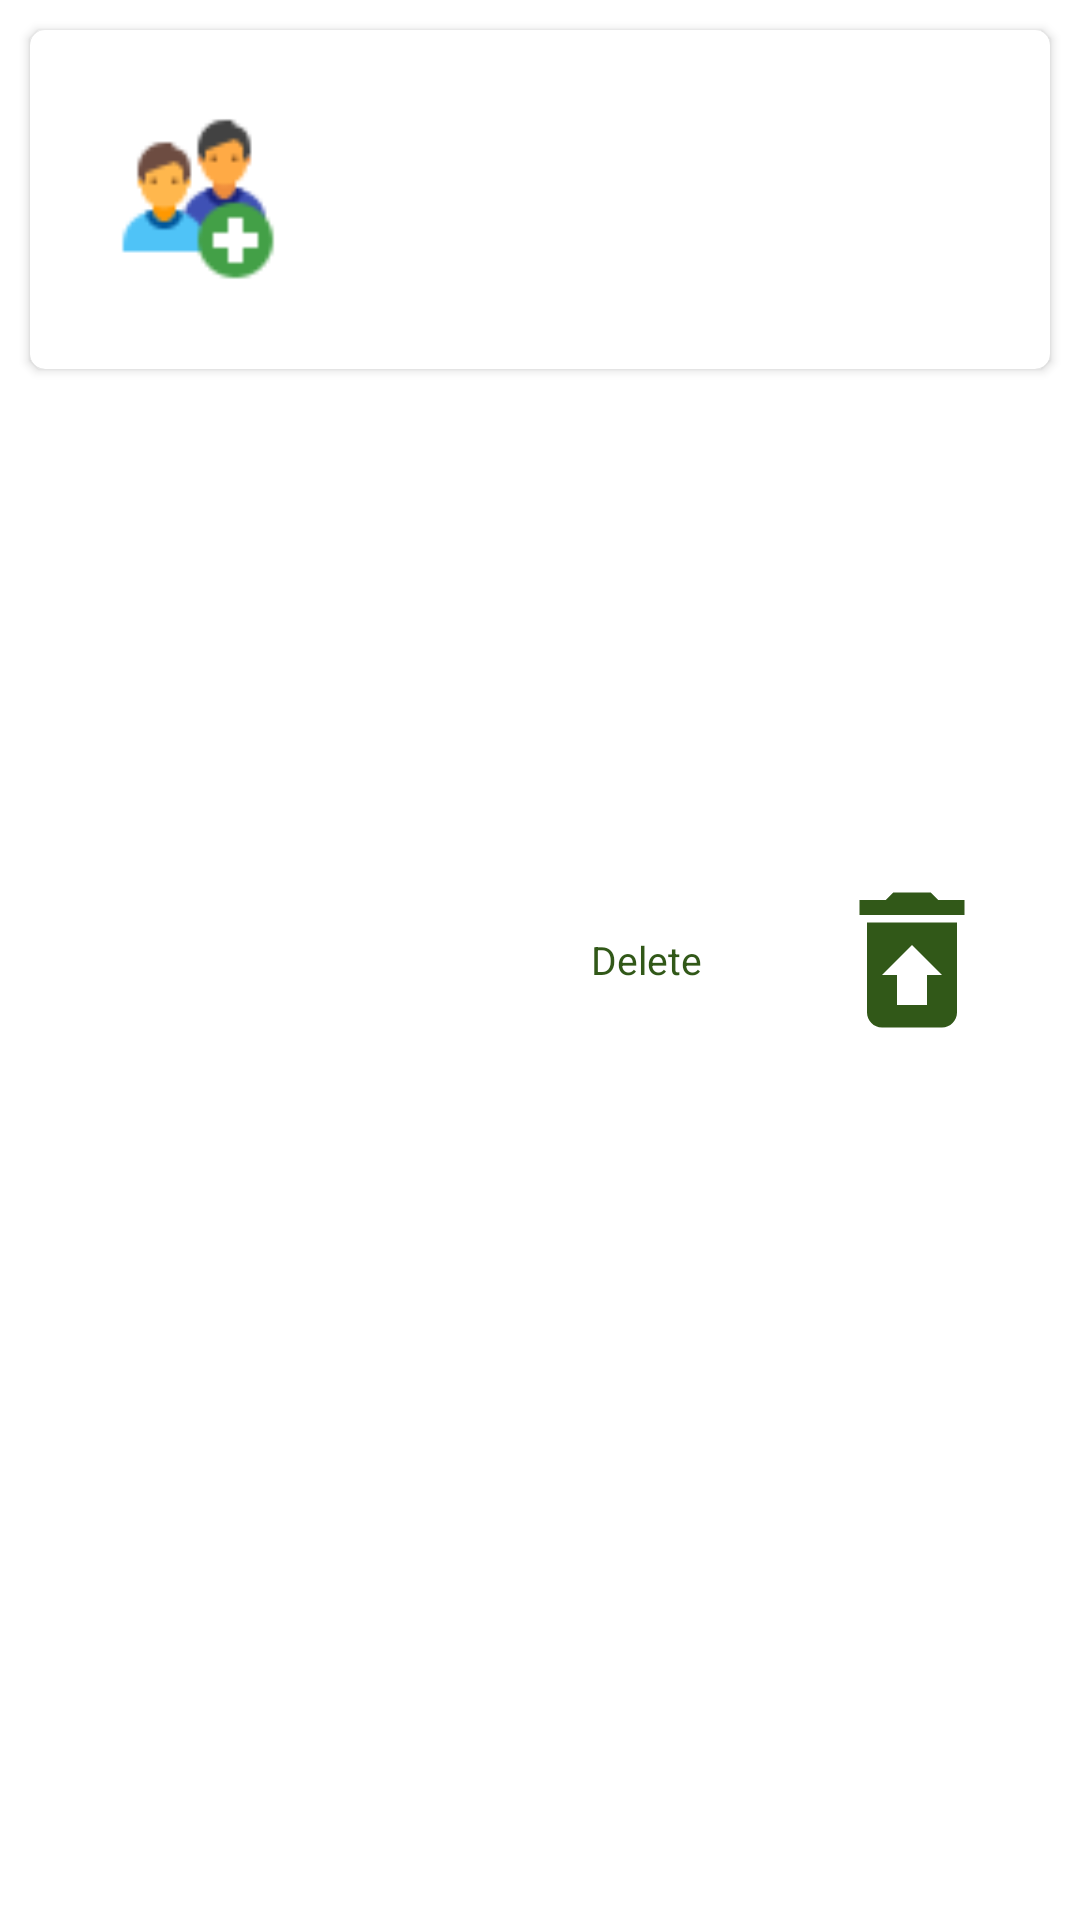

Screen size 1080x1920. Icon name, then its center in pixels as [x,y]:
restore from trash: [912,960]
